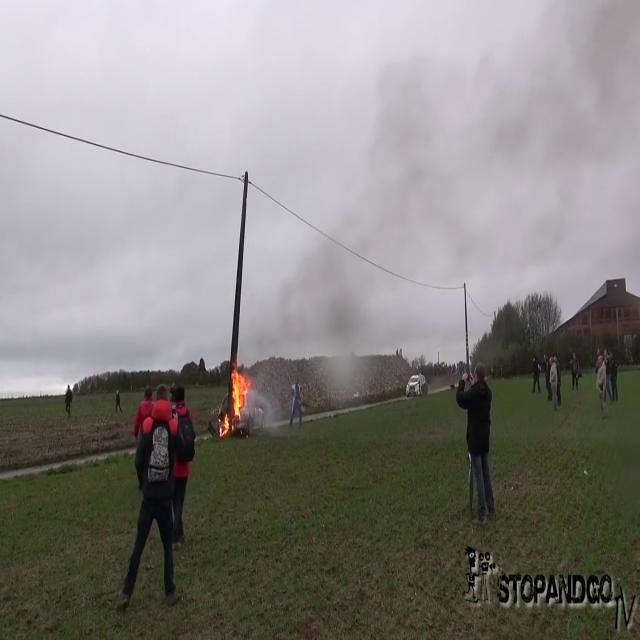Fire: (221, 358, 251, 434)
Smoke: (263, 0, 640, 405)
